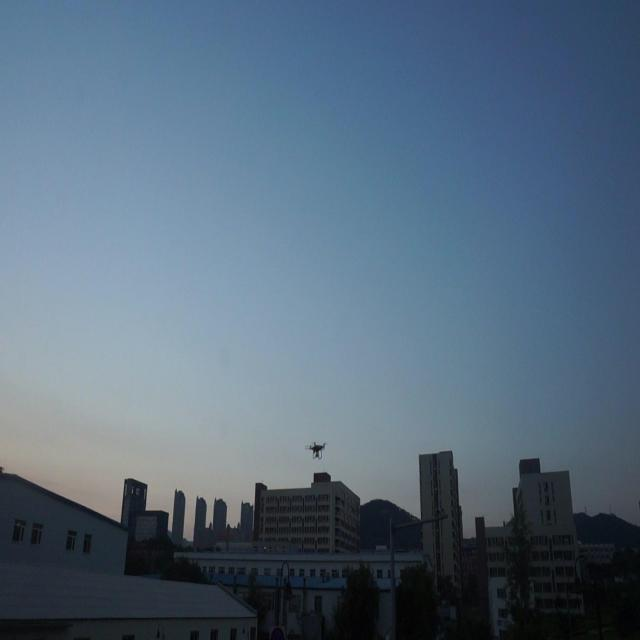UAV: (304, 441, 328, 460)
